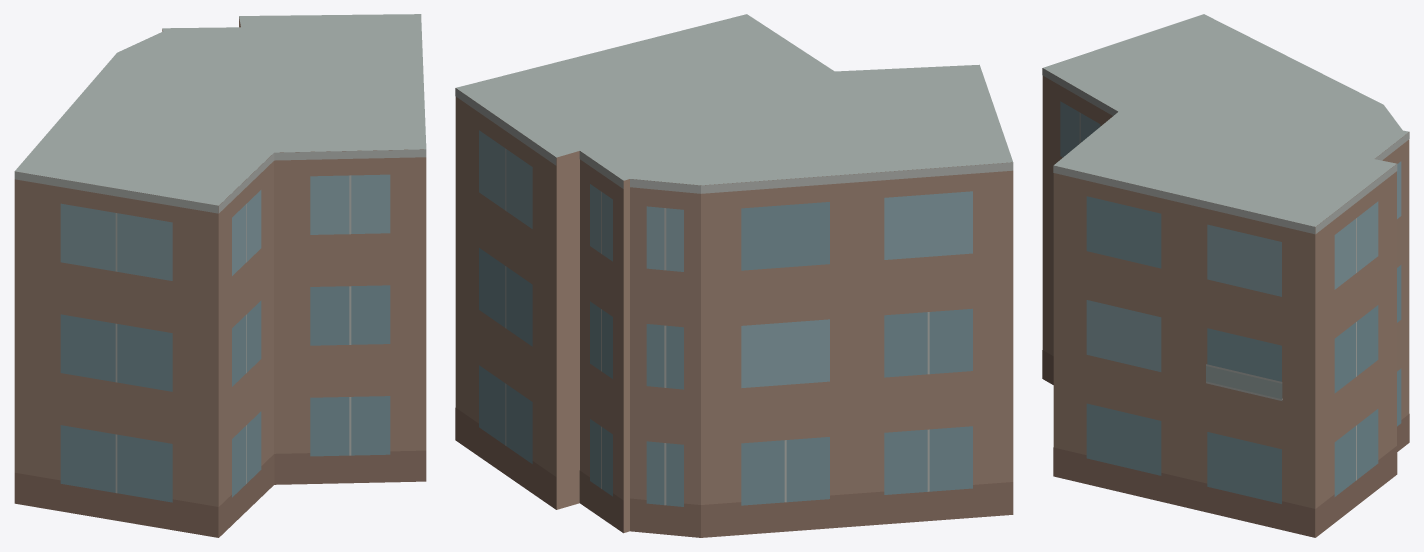
Rendered from survey-upis-32664623.glb.
The picture shows the model from 3 angles, left to right: view 1: azimuth 30°, elevation 25°; view 2: azimuth 150°, elevation 25°; view 3: azimuth 270°, elevation 25°; orthographic projection. The views are drawn at different scales.
Parts seen in each view (by area): view 1: survey-upis-32664623.tmp; view 2: survey-upis-32664623.tmp; view 3: survey-upis-32664623.tmp.
Part boxes in pixels (box(x1,y1,x2,y2)): survey-upis-32664623.tmp: box(14, 14, 426, 537); survey-upis-32664623.tmp: box(455, 14, 1013, 537); survey-upis-32664623.tmp: box(1042, 14, 1409, 537).
Size of the model in its own units: 14.99 by 10.2 by 10.92.
